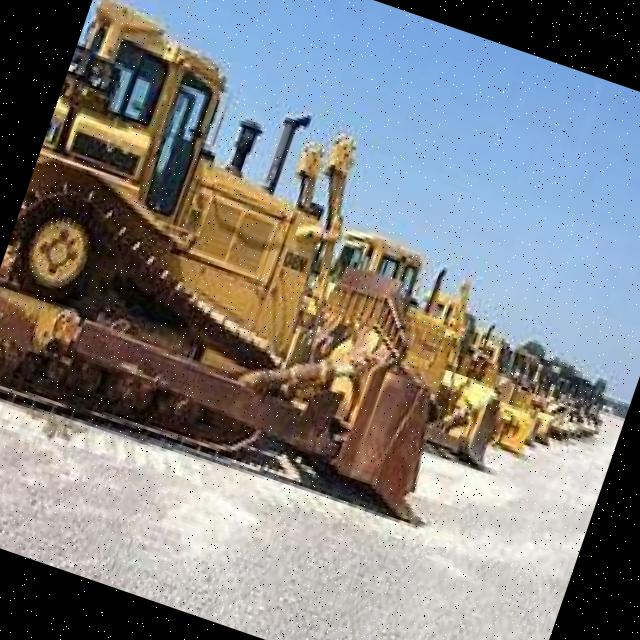Bulldozer: (0, 0, 569, 552)
